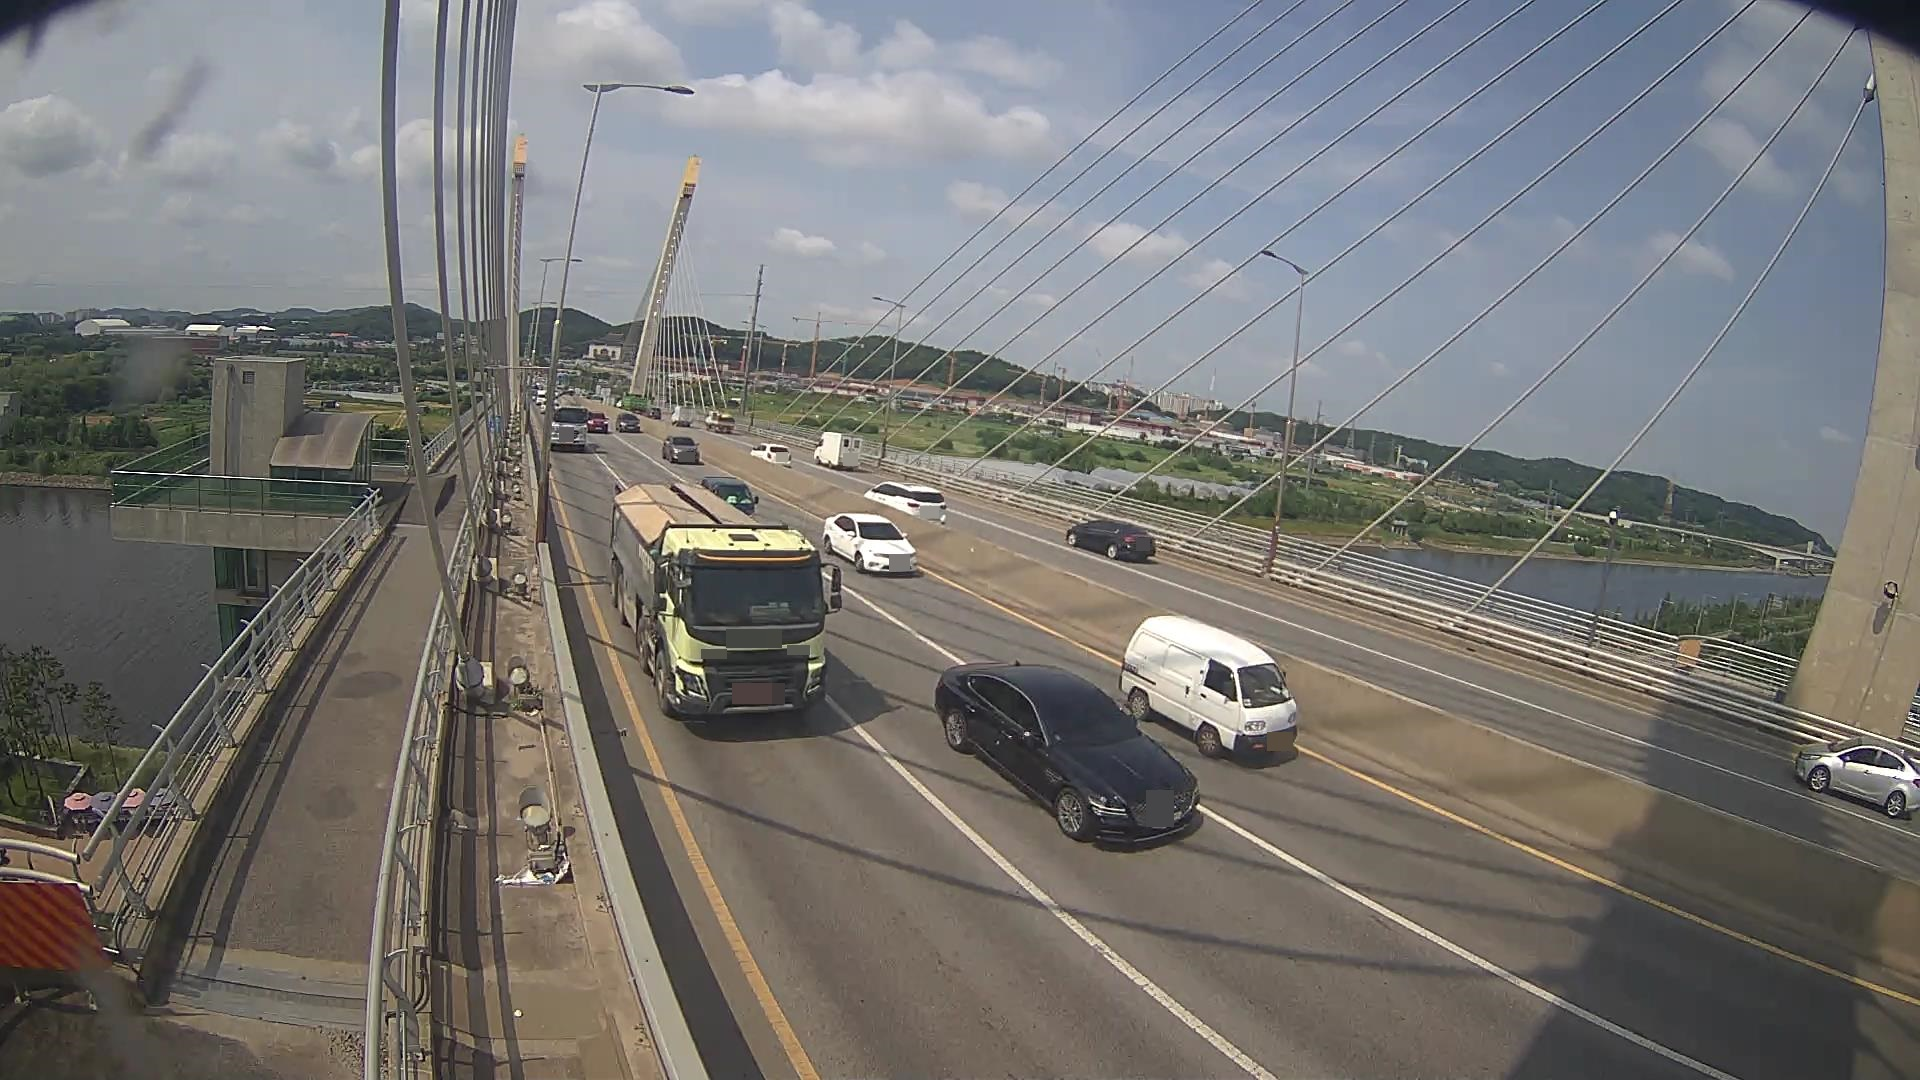정상차량: (611, 484, 843, 715)
